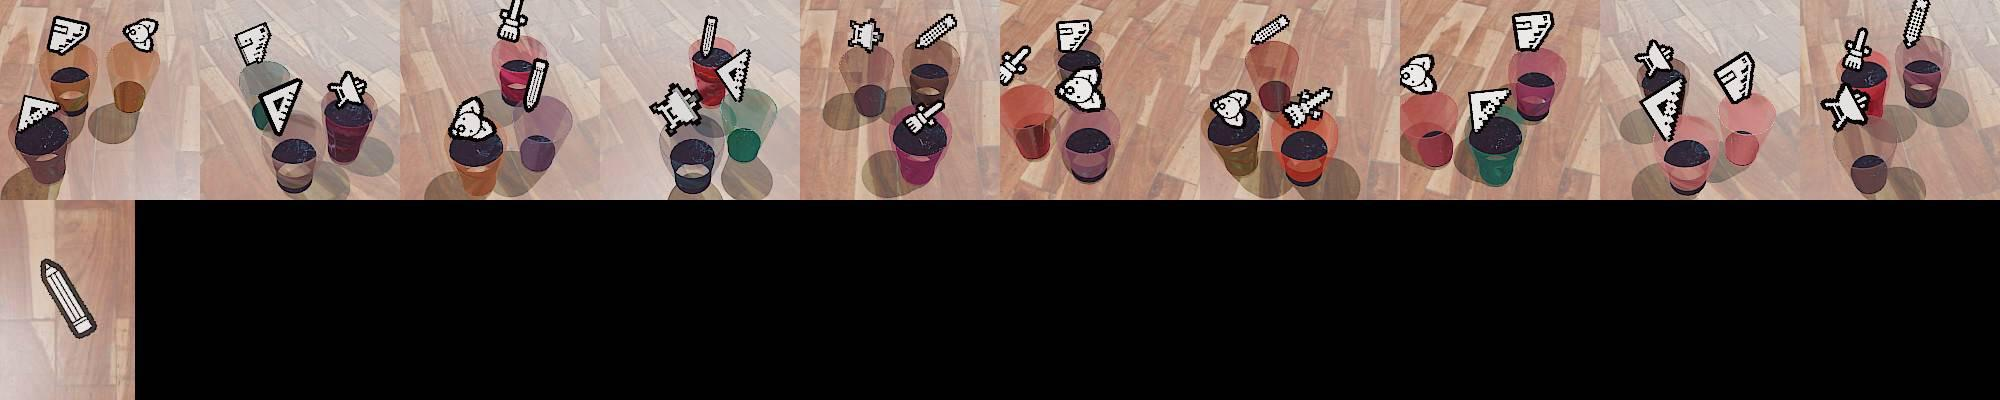icon: (40, 257, 97, 340), (1638, 74, 1686, 143), (256, 76, 304, 136), (651, 82, 703, 135), (1820, 80, 1869, 130), (1713, 50, 1756, 104), (1055, 65, 1105, 112), (714, 46, 755, 103), (1467, 85, 1511, 134), (1283, 85, 1334, 127), (449, 93, 495, 139), (17, 93, 62, 136), (47, 15, 91, 57), (1635, 38, 1677, 80), (1513, 11, 1555, 54), (913, 11, 958, 51), (233, 22, 272, 68), (1210, 88, 1253, 127), (1401, 52, 1437, 96), (522, 57, 550, 112), (329, 70, 369, 108), (1842, 27, 1872, 74), (496, 0, 529, 43), (1055, 19, 1093, 56), (999, 45, 1032, 87), (847, 17, 884, 54), (1250, 13, 1290, 47), (904, 98, 944, 132), (1902, 0, 1930, 47), (124, 17, 158, 54), (698, 15, 718, 59)
